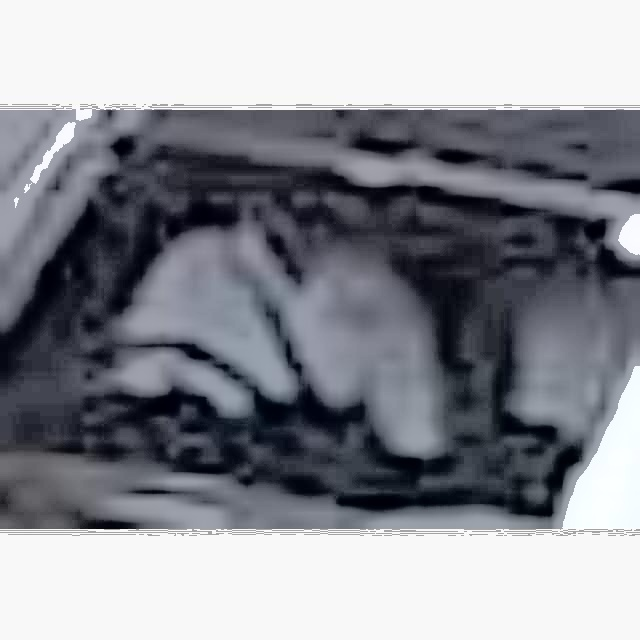pakai: (126, 204, 399, 414)
